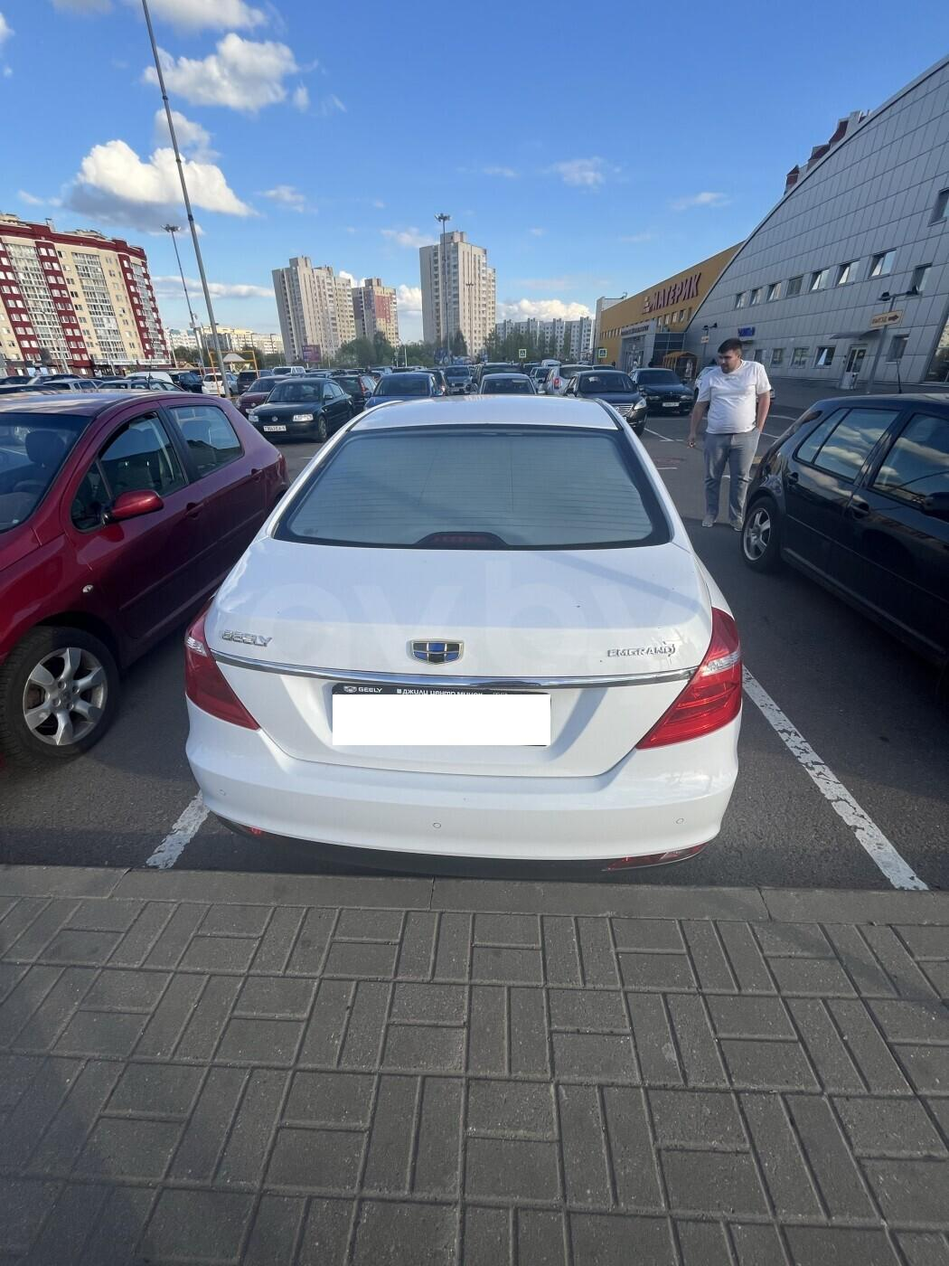Emgrand_2019-2021: (189, 398, 742, 859)
